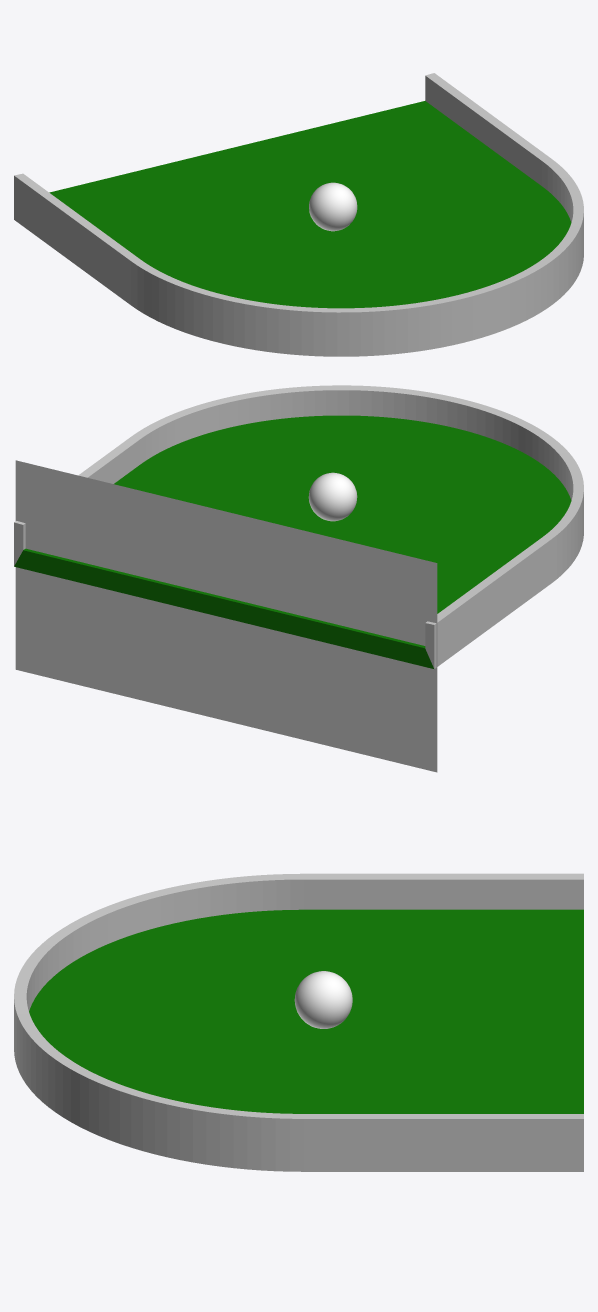
File: soft_start.gltf
The picture shows the model from 3 angles, top to bottom: view 1: azimuth 30°, elevation 25°; view 2: azimuth 150°, elevation 25°; view 3: azimuth 270°, elevation 25°; orthographic projection. The views are drawn at different scales.
Parts seen in each view (by area): view 1: Cylinder, Sphere; view 2: obj_snap.001, Cylinder, Sphere; view 3: Cylinder, Sphere.
Boxes of the visible parts, box(x1,y1,x2,y2) form: Cylinder: box(14, 73, 583, 356); Sphere: box(309, 182, 357, 231); obj_snap.001: box(15, 460, 437, 772); Cylinder: box(14, 385, 583, 669); Sphere: box(308, 472, 357, 521); Cylinder: box(14, 873, 583, 1171); Sphere: box(294, 971, 352, 1028).
Bounding box in the file's own units: 4.21 × 2 × 4.13.
